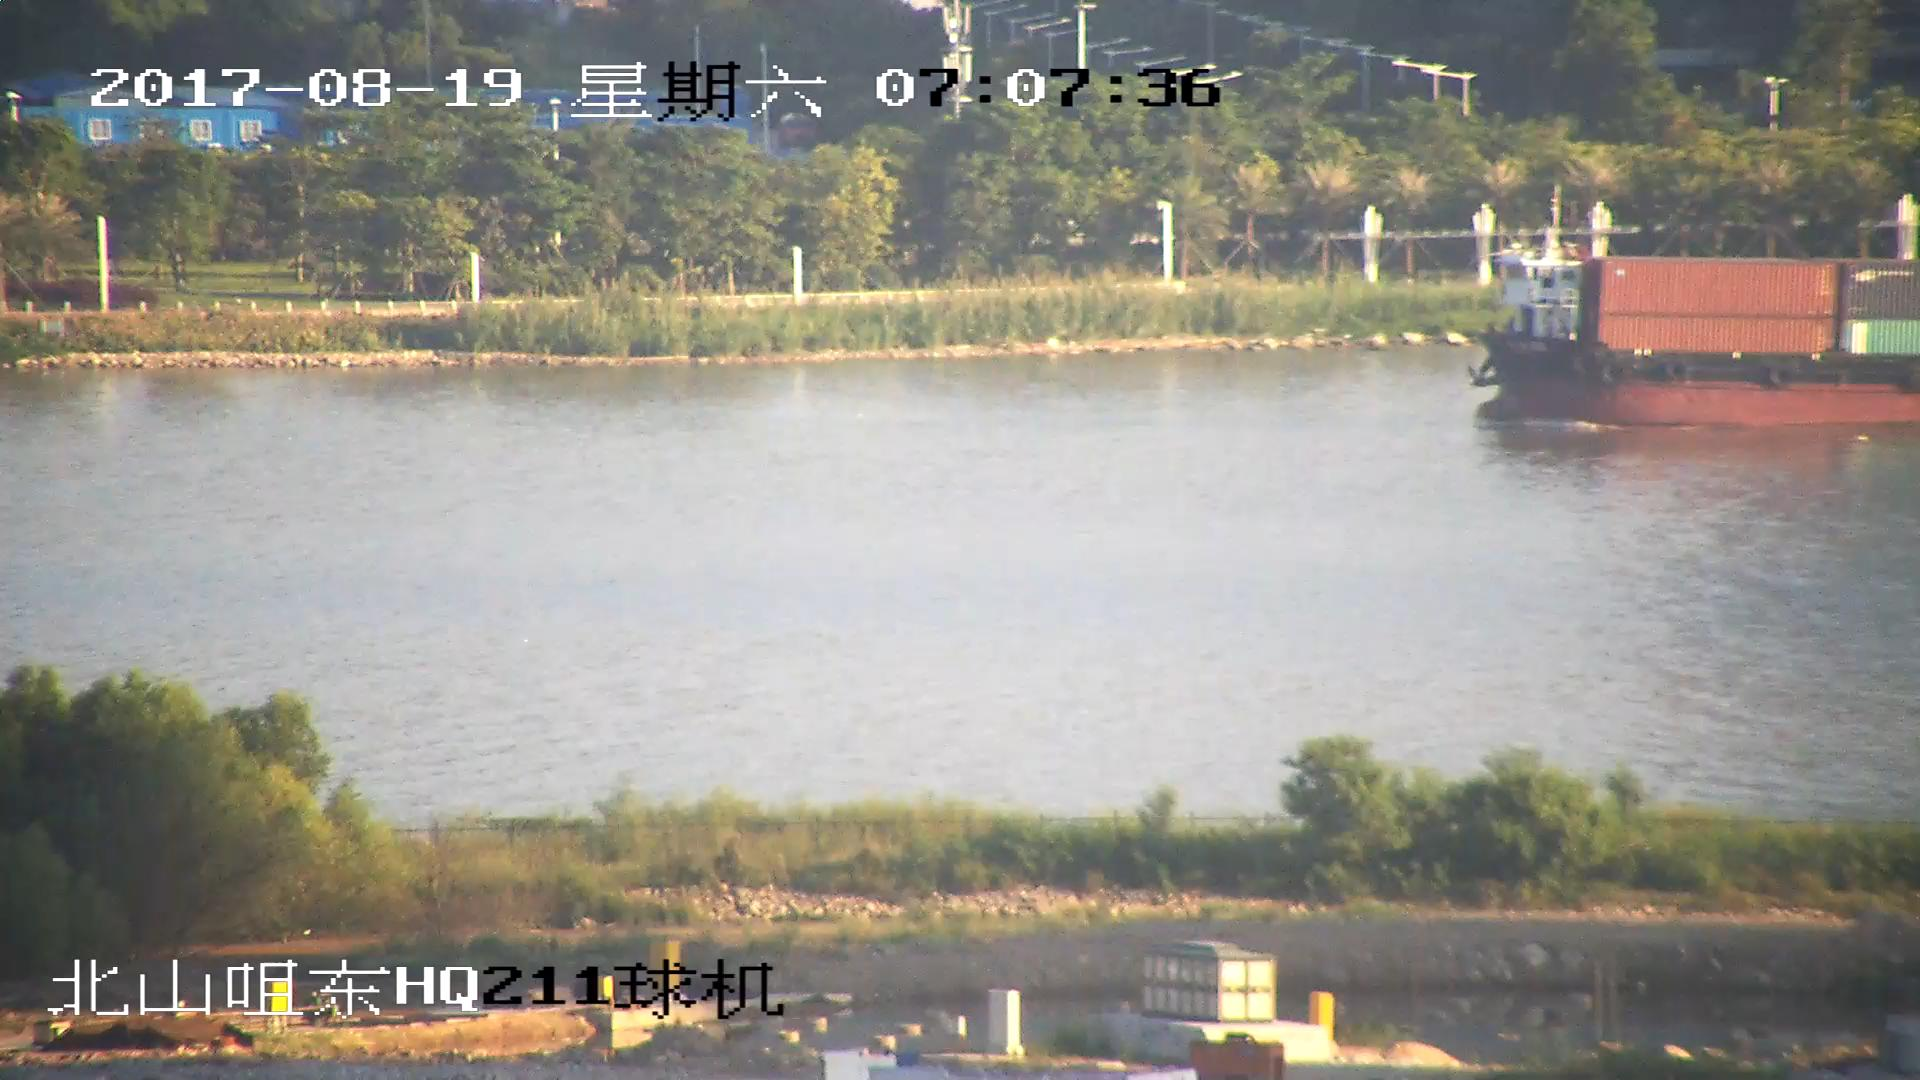container ship: (1469, 194, 1920, 430)
